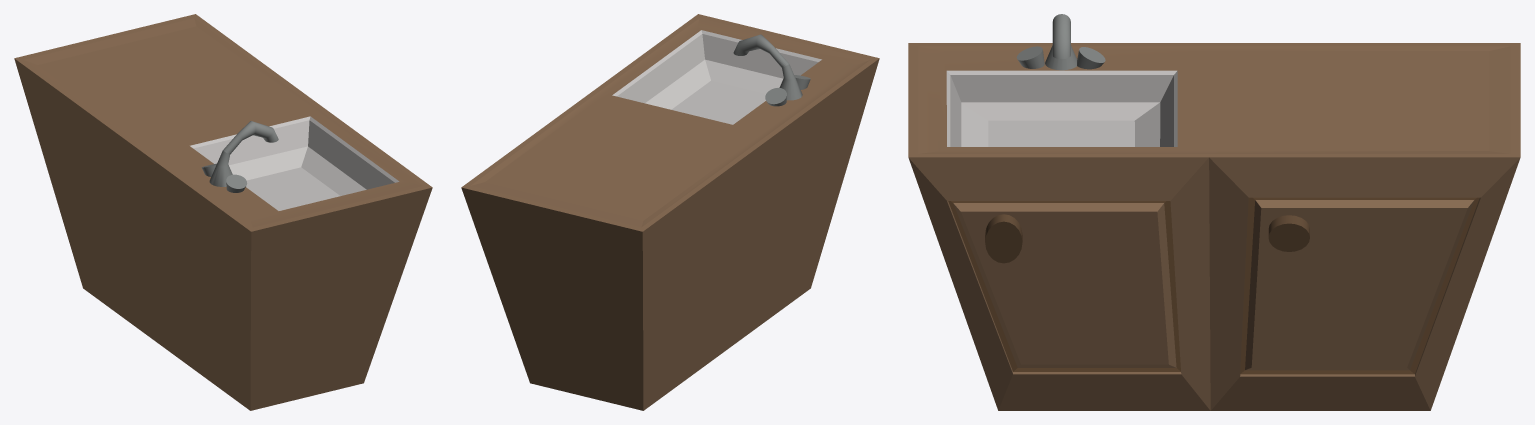
File: aanrecht_nieuwestijl.fbx
3 renders of one model, left to right at view 1: azimuth 30°, elevation 25°; view 2: azimuth 150°, elevation 25°; view 3: azimuth 270°, elevation 25°, orthographic. The views are drawn at different scales.
Parts seen in each view (by area): view 1: polySurface32; view 2: polySurface32; view 3: polySurface32.
Part boxes in pixels (x1=…): polySurface32: x1=14, y1=14, x2=432, y2=410; polySurface32: x1=461, y1=14, x2=879, y2=410; polySurface32: x1=908, y1=14, x2=1520, y2=410.
Size of the model in its own units: 1.32 by 1.76 by 2.85.
